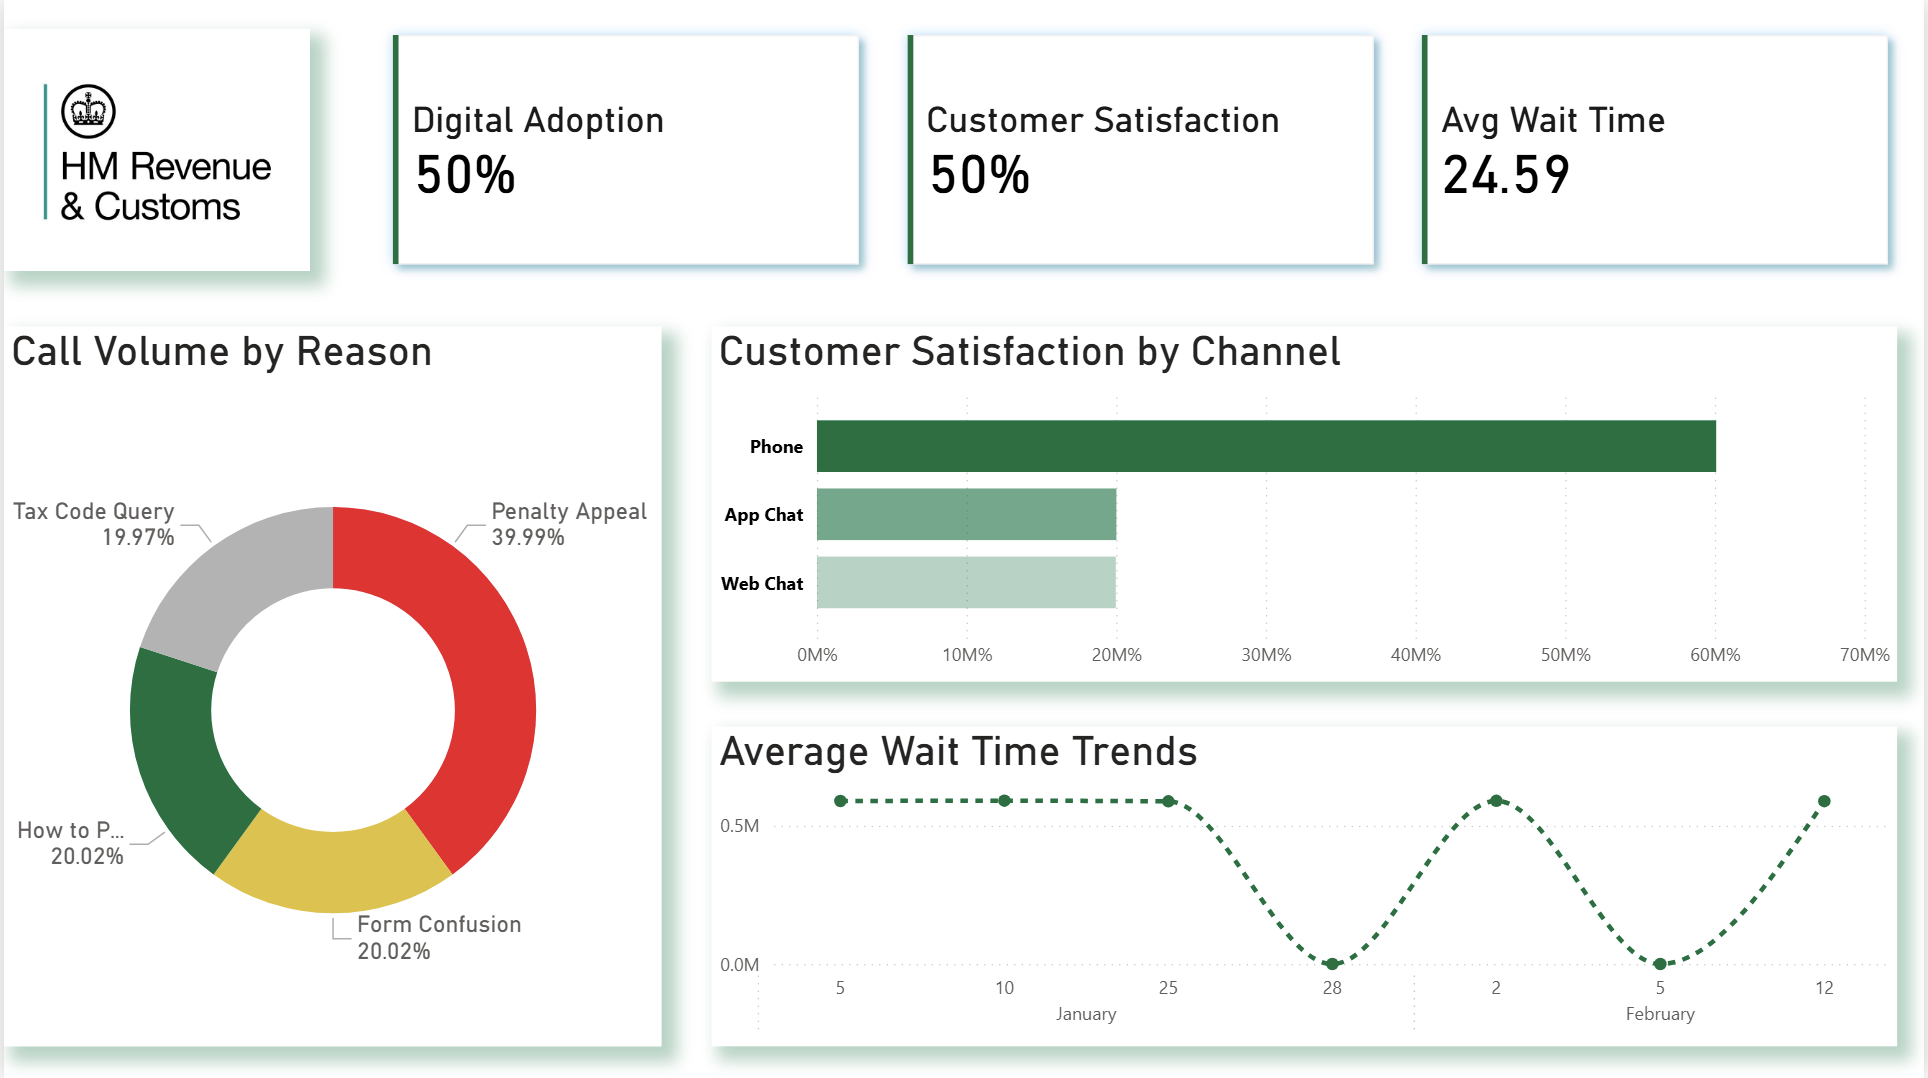

This screenshot's page, from the dashboard's own definition file:
{"tool":"powerbi","page":{"name":"Operation & Customer Experience","canvas":[1280,720],"ordinal":1},"visuals":[{"type":"cardVisual","fields":{"Data":["HMRC FACT_FILING.Digital Adoption %","HMRC FACT_OPERATION.CSAT %","HMRC FACT_OPERATION.Avg Wait Time (Corrected)"]},"box":[234.3,0,1045.2,201.3],"z":0},{"type":"image","box":[0,20.1,204.2,161],"z":1000},{"type":"donutChart","title":"Call Volume by Reason ","fields":{"Category":["HMRC FACT_OPERATION.Topic"],"Y":["CountNonNull(HMRC FACT_OPERATION.CallID)"]},"box":[0,218.3,438.3,480],"z":2000},{"type":"clusteredBarChart","title":"Customer Satisfaction by Channel","fields":{"Y":["Sum(HMRC FACT_OPERATION.CSAT_Score)"],"Category":["HMRC FACT_OPERATION.Channel"]},"box":[471.9,219.2,790.4,236.7],"z":3000},{"type":"lineChart","title":"Average Wait Time Trends","fields":{"Category":["HMRC FACT_OPERATION.CallDate.Variation.Date Hierarchy.Month","HMRC FACT_OPERATION.CallDate.Variation.Date Hierarchy.Day"],"Y":["Sum(HMRC FACT_OPERATION.WaitTime_Min)"]},"box":[471.9,485.1,790.4,213.3],"z":4000}]}

Visuals, with their boxes in screenshot pixels (x1, y1, x2, y2), scaled from the page's 1280x720 canvas onto the 1928x1078 screenshot:
cardVisual - HMRC FACT_FILING.Digital Adoption % x HMRC FACT_OPERATION.CSAT %: box=[353, 0, 1927, 301]
image: box=[0, 30, 308, 271]
"Call Volume by Reason " donutChart: box=[0, 327, 660, 1046]
"Customer Satisfaction by Channel" clusteredBarChart: box=[711, 328, 1901, 683]
"Average Wait Time Trends" lineChart: box=[711, 726, 1901, 1046]
